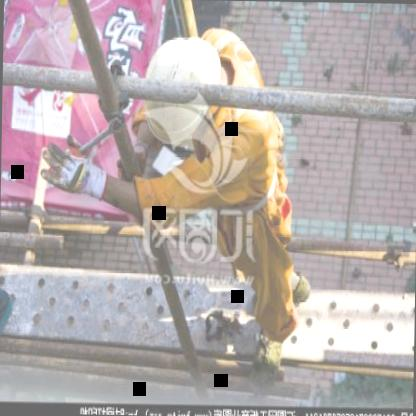helmet: (139, 29, 227, 142)
